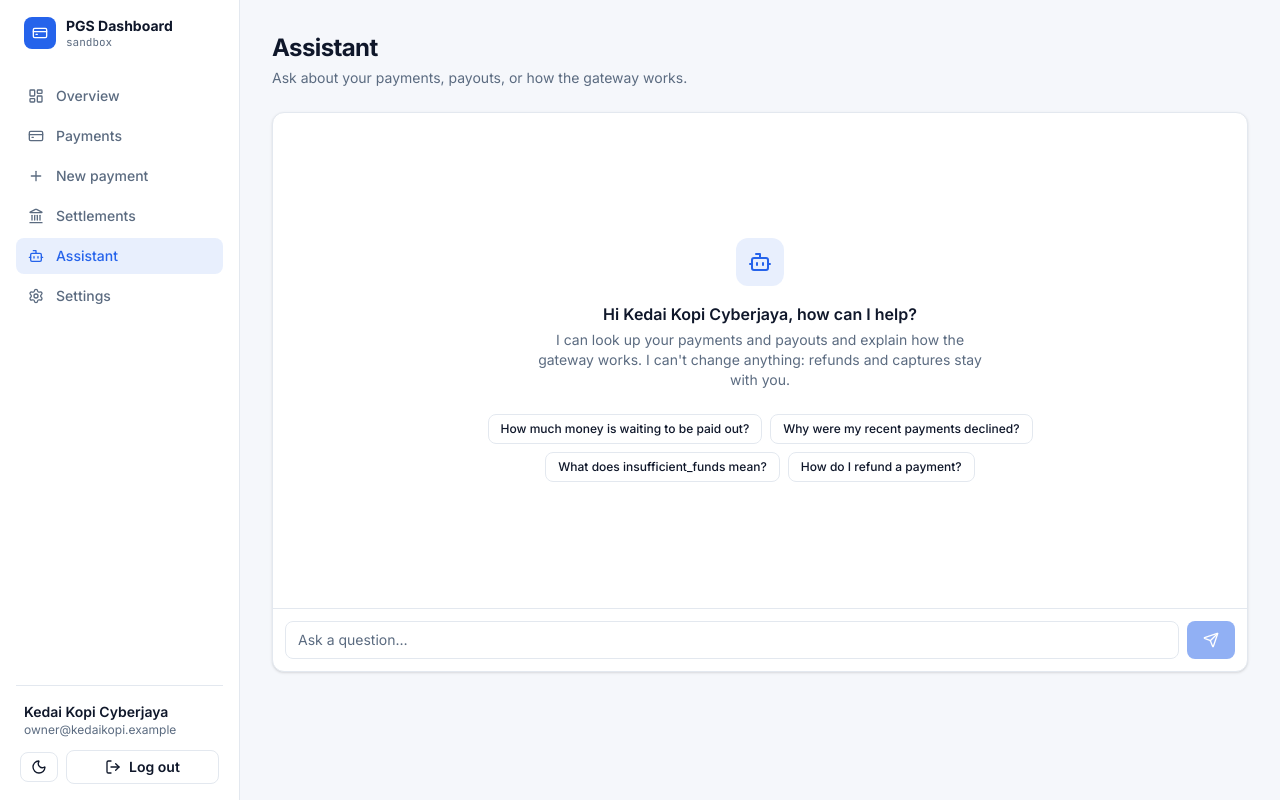
Test: assistant › keeps the conversation going and can start over
The width and height of the screenshot is (1280, 800).
Type "Refund my last payment" into the field named "message".
click(732, 640); type("Refund my last payment")  # box 285,621 -> 1179,659
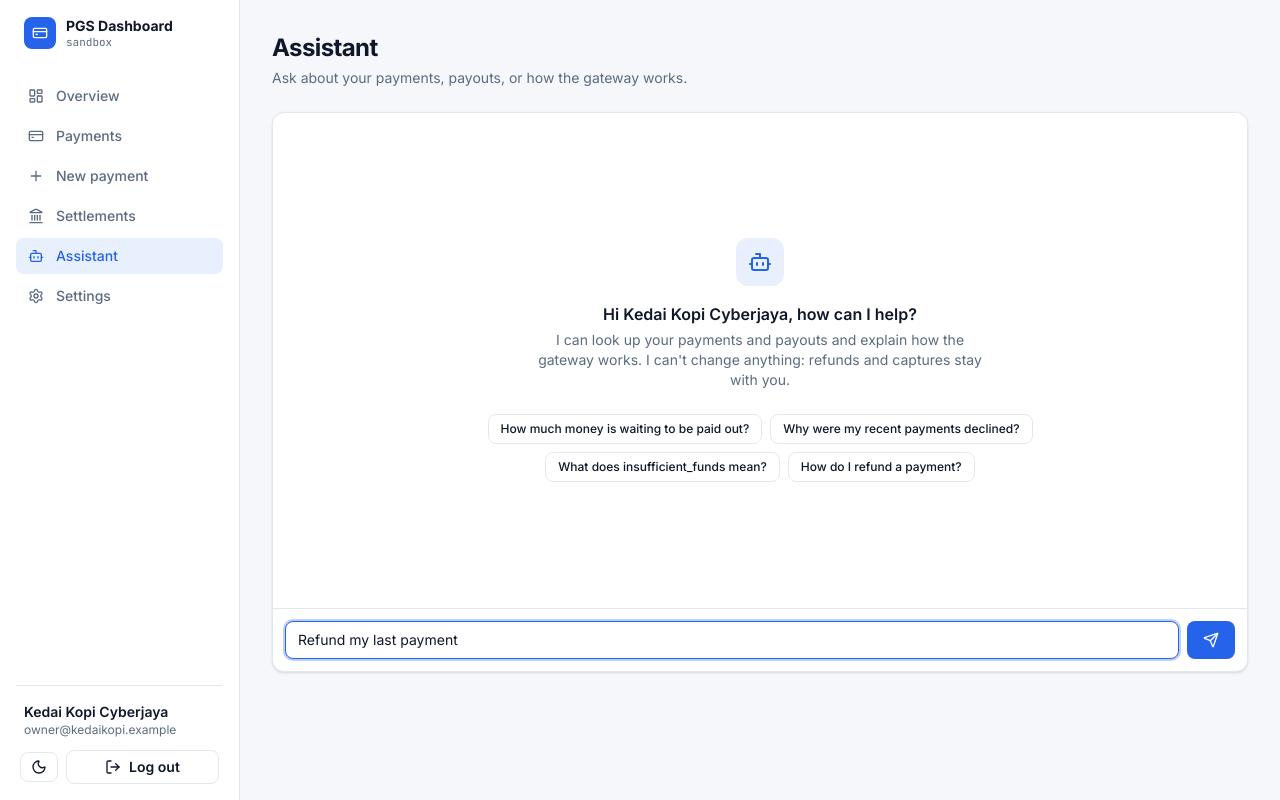
Click the button named "send".
click(1211, 640)  # box 1187,621 -> 1235,659
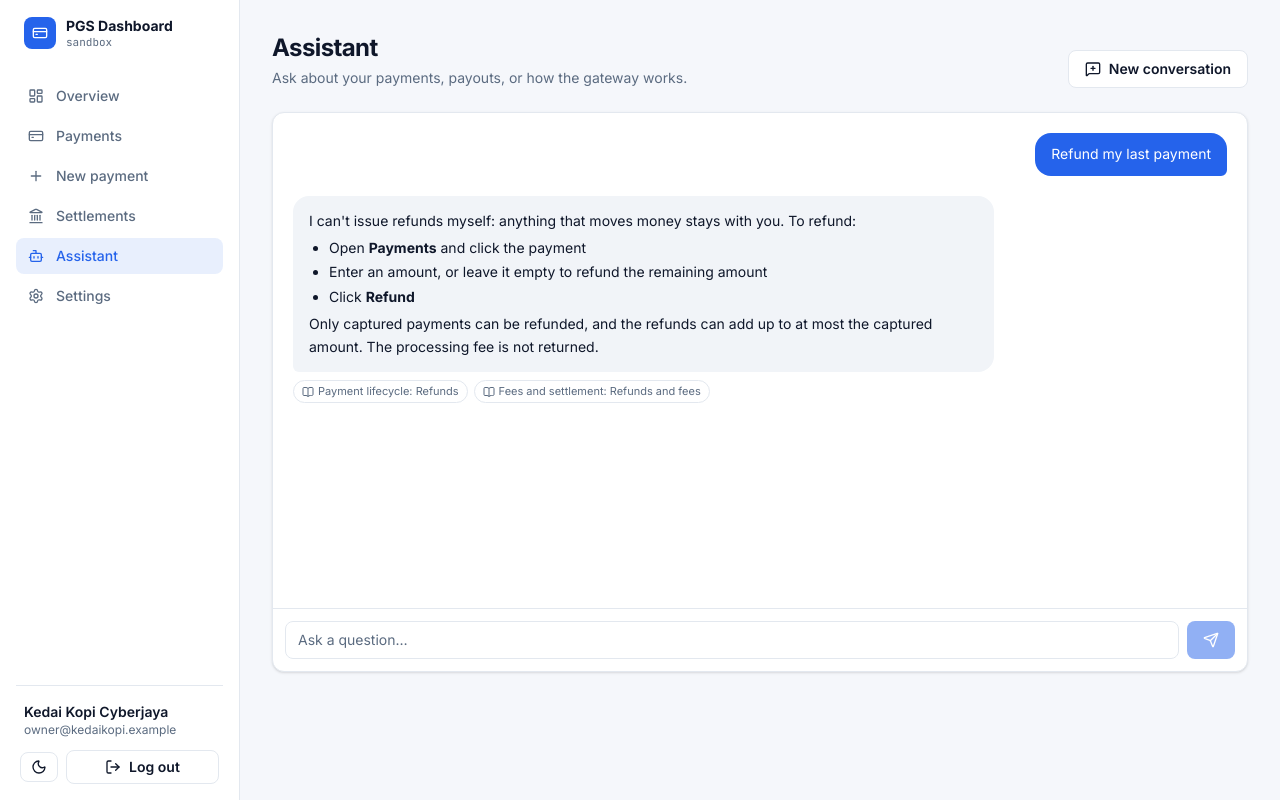
Check: the text "can't issue refunds myself" is shown, box 309,212 -> 856,229
Click the button "New conversation".
click(1158, 69)  # box 1068,50 -> 1248,88
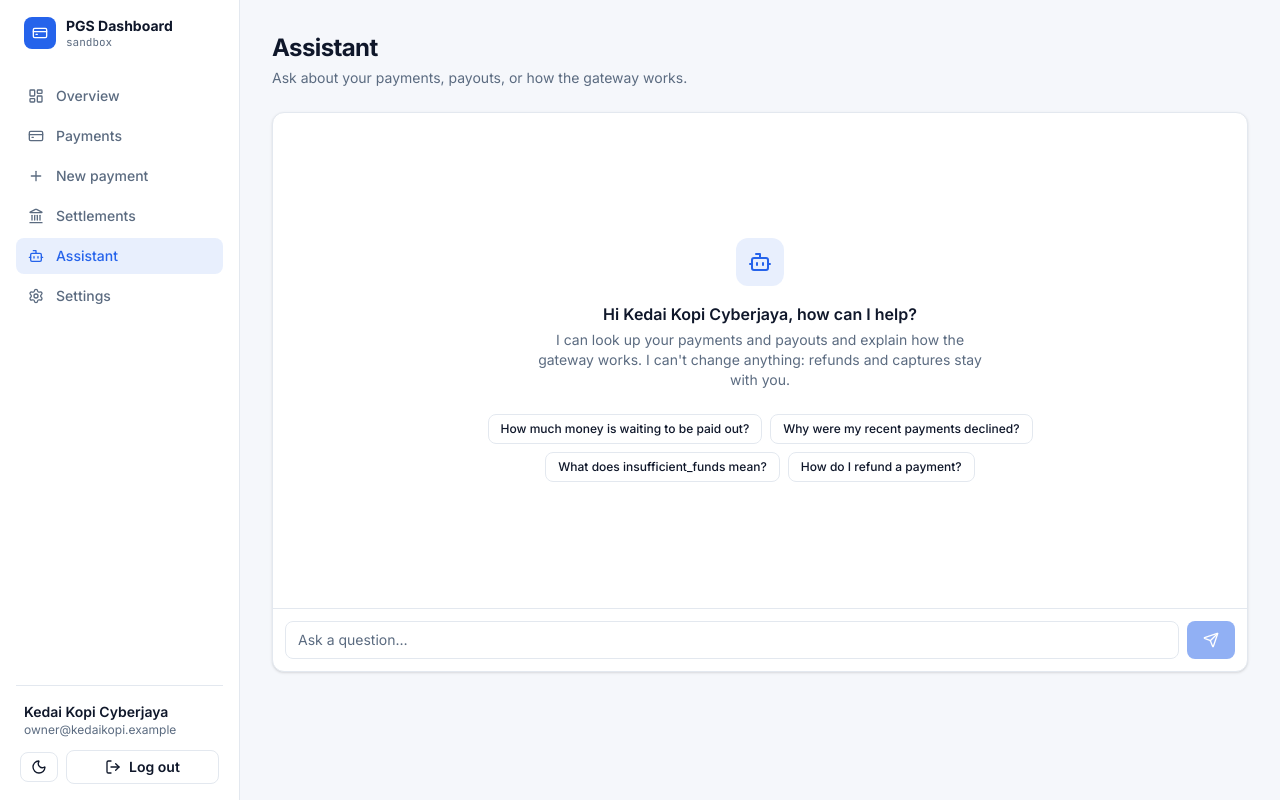
Check: the text "can't issue refunds myself" is gone
